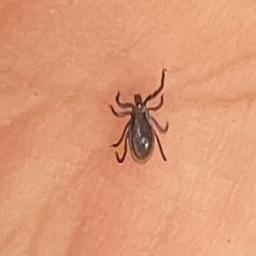Ixodes scapularis: (109, 68, 169, 164)
